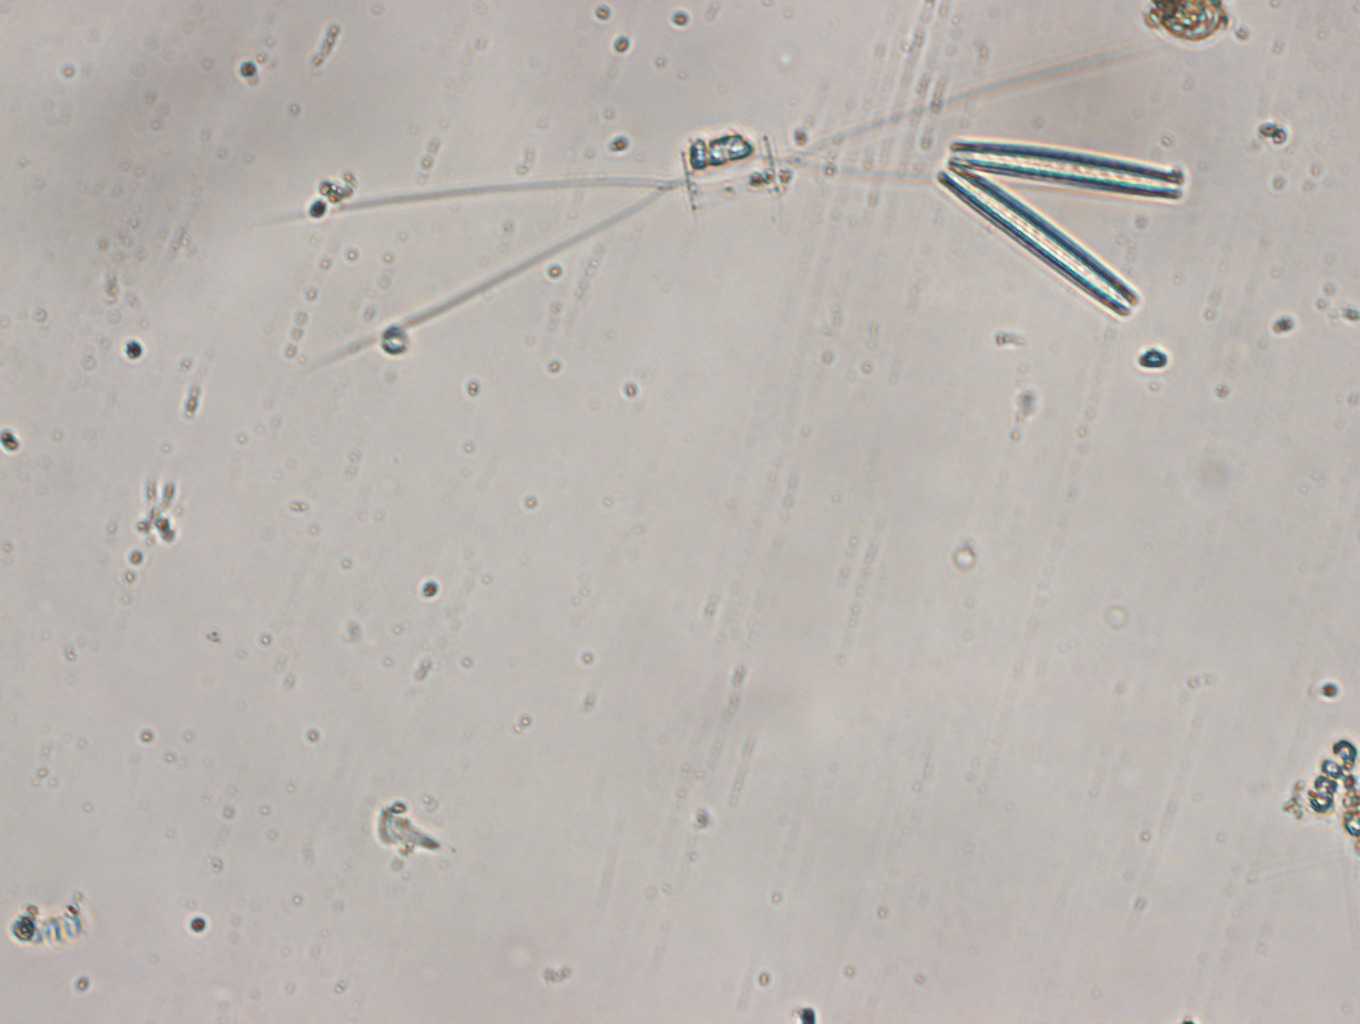chaetoceros: (254, 29, 1168, 370)
thalassionema nitzschioides: (929, 133, 1190, 324)
